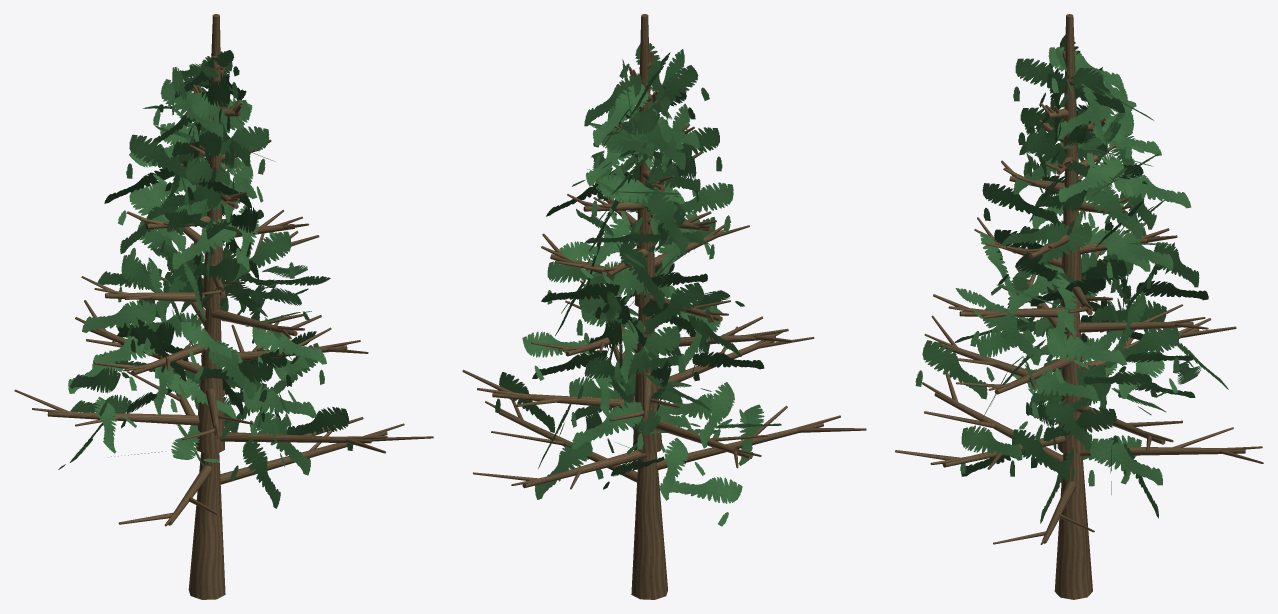
The picture shows the model from 3 angles, left to right: view 1: azimuth 30°, elevation 25°; view 2: azimuth 150°, elevation 25°; view 3: azimuth 270°, elevation 25°; orthographic projection.
Parts seen in each view (by area): view 1: pine-needle, pine-bark; view 2: pine-needle, pine-bark; view 3: pine-needle, pine-bark.
Part boxes in pixels (box(x1,y1,x2,y2)): pine-needle: box(58, 50, 352, 508); pine-bark: box(14, 14, 433, 599); pine-needle: box(495, 43, 781, 526); pine-bark: box(462, 14, 866, 599); pine-needle: box(915, 34, 1228, 523); pine-bark: box(895, 14, 1263, 599).
Bounding box in the file's own units: 6.17 × 10.01 × 5.77.
2 materials, 2 textured.
